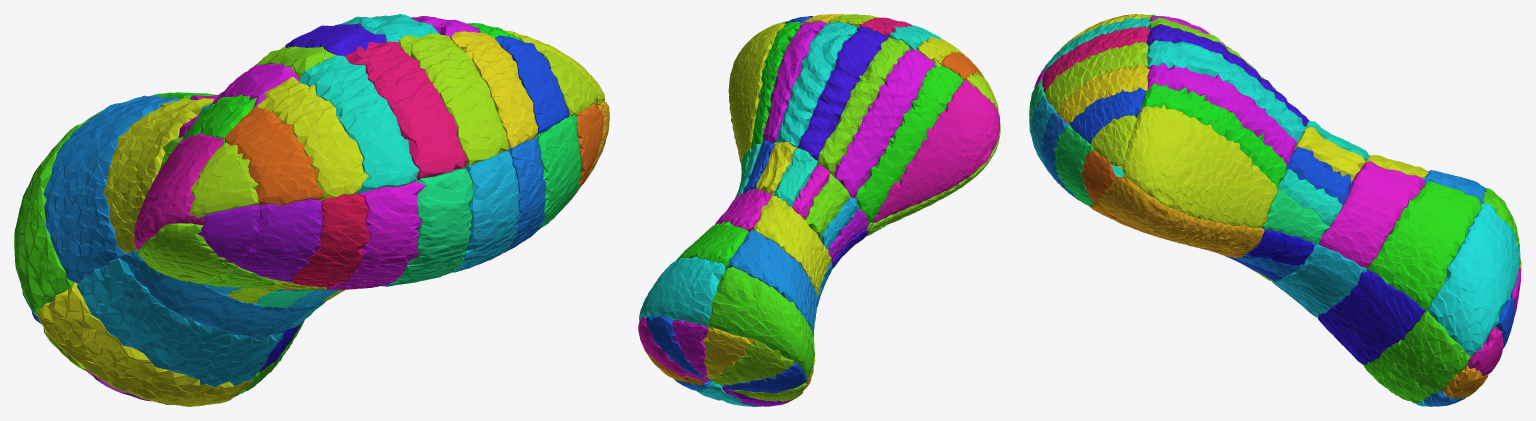
File: uterus-female-upenn-v1.0.glb
3 renders of one model, left to right at view 1: azimuth 30°, elevation 25°; view 2: azimuth 150°, elevation 25°; view 3: azimuth 270°, elevation 25°, orthographic. The views are drawn at different scales.
Visible parts, largest first — view 1: world; view 2: world; view 3: world.
Boxes of the visible parts, x1,y1,x2,y2 form: world: (14,14,609,406); world: (638,14,1000,406); world: (1029,14,1521,406).
Size of the model in its own units: 0.0437 by 0.0467 by 0.0585.
